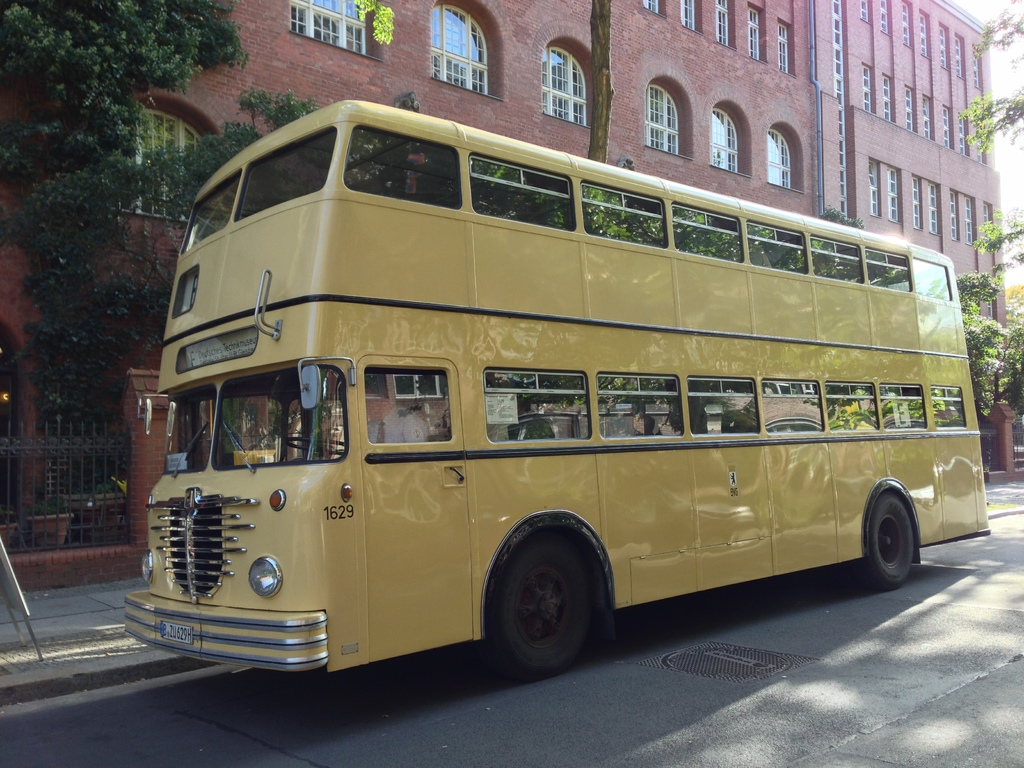Bus: (125, 100, 989, 676)
